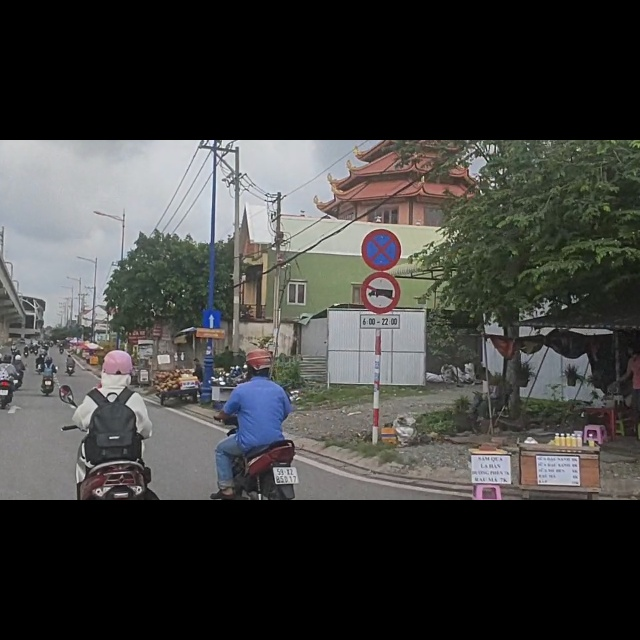bien_cam: (361, 156, 401, 232), (361, 236, 401, 308), (202, 300, 221, 335)
